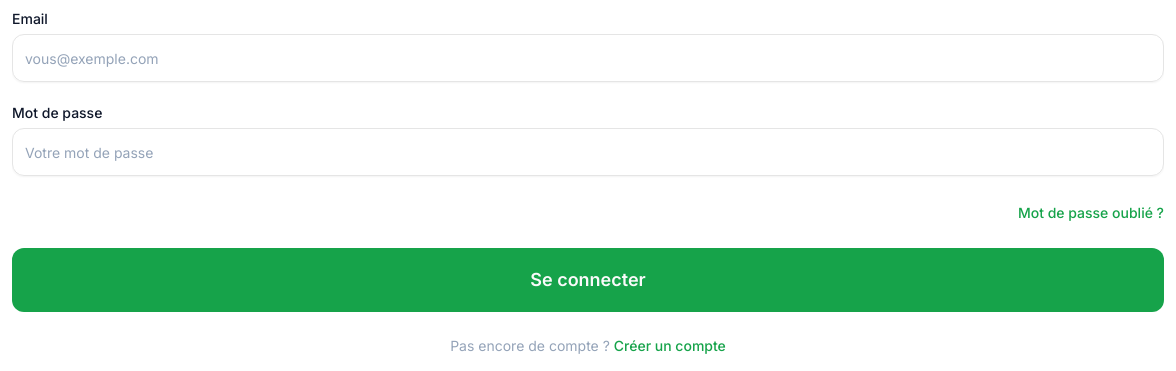
Test: LoginForm › should show loading state during submission
Type "test@example.com" into the field labelled "Email" at (588,58), box 12,34 -> 1164,82
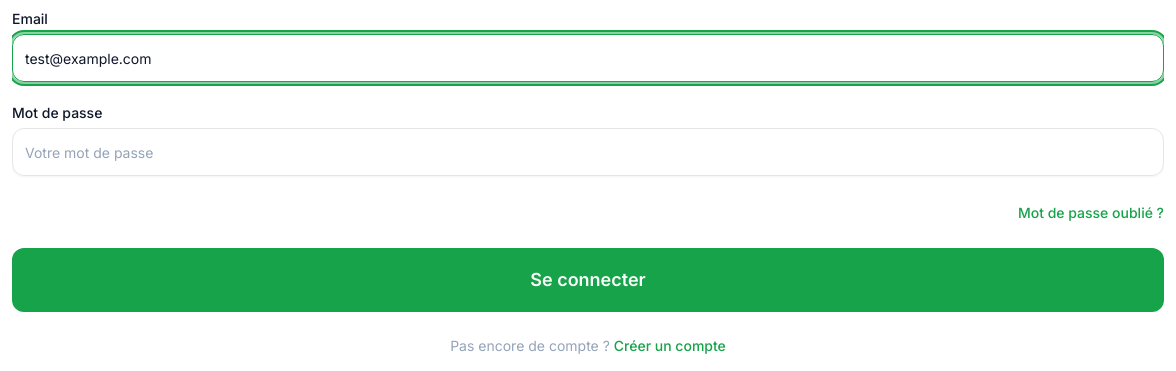
Type "password123" into the password field labelled "Mot de passe" at (588,152), box 12,128 -> 1164,176
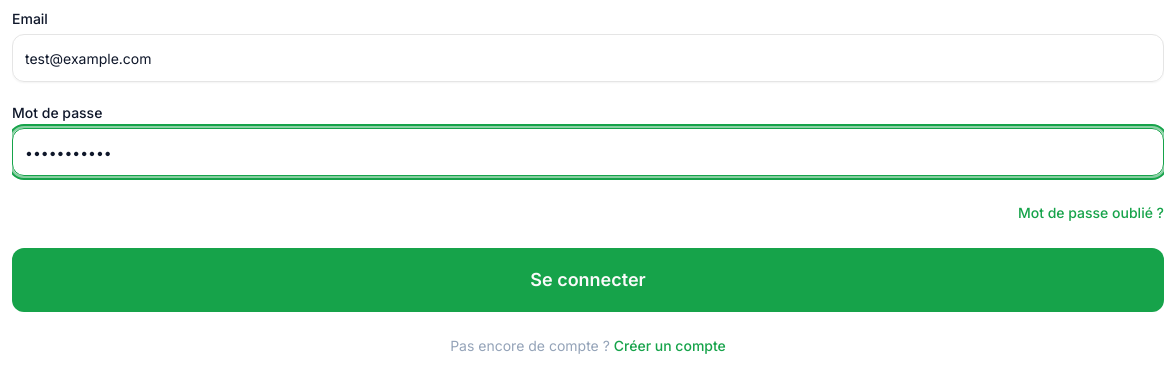
Click the button "Se connecter" at (588,280), box 12,248 -> 1164,312
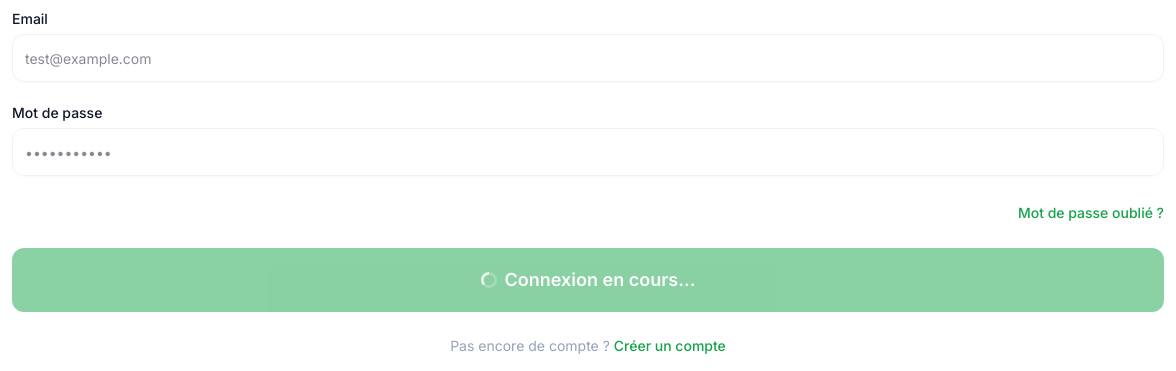
Check: the text "Connexion en cours..." is shown, box 480,266 -> 695,294
